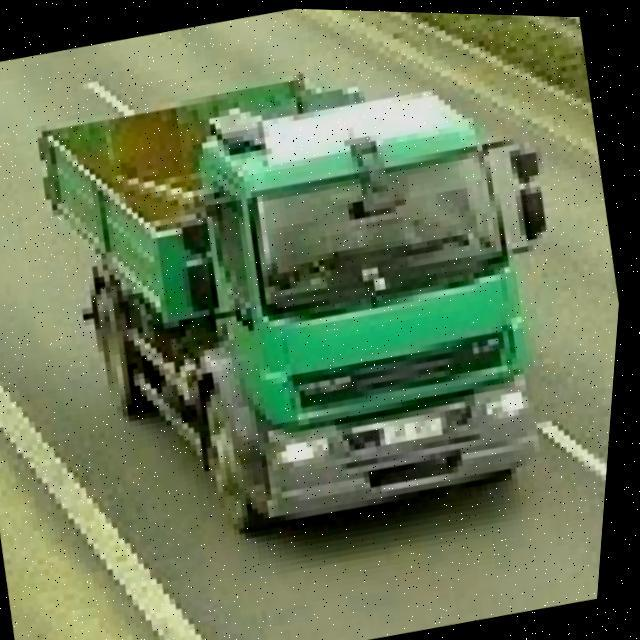truck: (14, 12, 612, 568)
